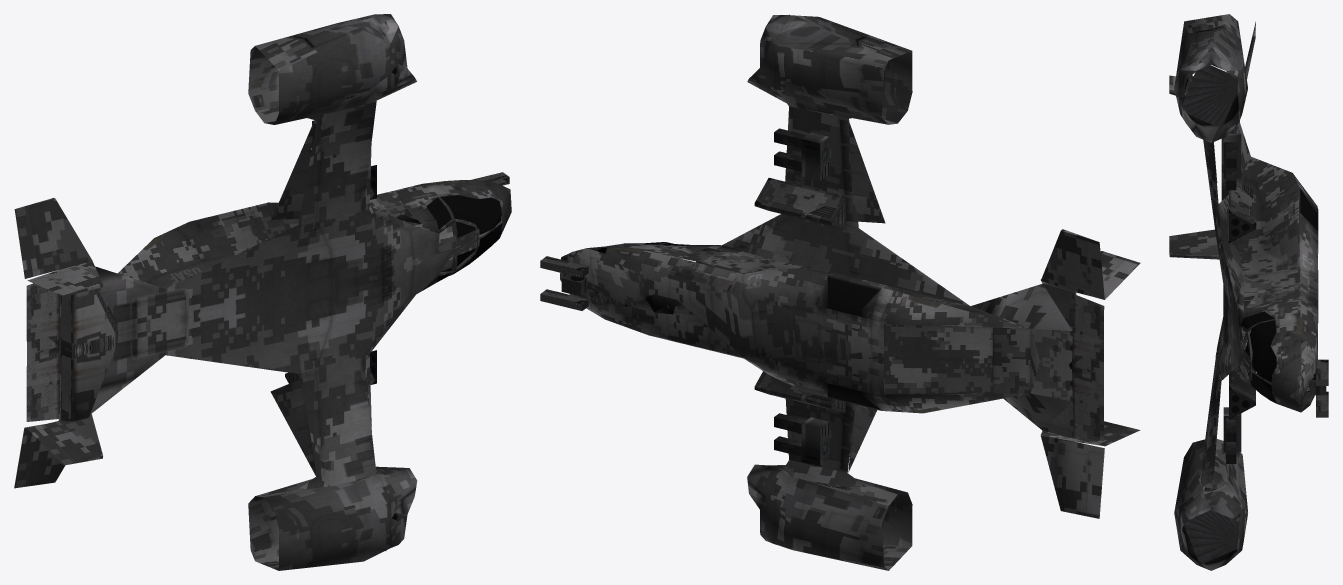
Rendered from veh_t6_air_v78_vtol_killstreak_alt_LOD2.obj.
3 renders of one model, left to right at view 1: azimuth 30°, elevation 25°; view 2: azimuth 150°, elevation 25°; view 3: azimuth 270°, elevation 25°, orthographic. The views are drawn at different scales.
Parts seen in each view (by area): view 1: mtl_veh_t6_v78_vtol_enemy, mtl_veh_t6_air_fa38_glass_opaque, mtl_veh_t6_v78_vtol_guns_enemy; view 2: mtl_veh_t6_v78_vtol_enemy, mtl_veh_t6_v78_vtol_guns_enemy; view 3: mtl_veh_t6_v78_vtol_enemy, mtl_veh_t6_v78_vtol_guns_enemy, mtl_veh_t6_air_fa38_glass_opaque, mtl_veh_t6_v78_vtol_interior.
Part boxes in pixels (x1=…): mtl_veh_t6_v78_vtol_enemy: x1=14, y1=14, x2=511, y2=570; mtl_veh_t6_air_fa38_glass_opaque: x1=426, y1=195, x2=501, y2=282; mtl_veh_t6_v78_vtol_guns_enemy: x1=285, y1=120, x2=509, y2=384; mtl_veh_t6_v78_vtol_enemy: x1=560, y1=14, x2=1140, y2=570; mtl_veh_t6_v78_vtol_guns_enemy: x1=540, y1=128, x2=845, y2=465; mtl_veh_t6_v78_vtol_enemy: x1=1169, y1=14, x2=1318, y2=570; mtl_veh_t6_v78_vtol_guns_enemy: x1=1223, y1=133, x2=1328, y2=463; mtl_veh_t6_air_fa38_glass_opaque: x1=1241, y1=311, x2=1276, y2=403; mtl_veh_t6_v78_vtol_interior: x1=1240, y1=328, x2=1252, y2=383.
Bounding box in the file's own units: 1954 × 1912 × 538.
